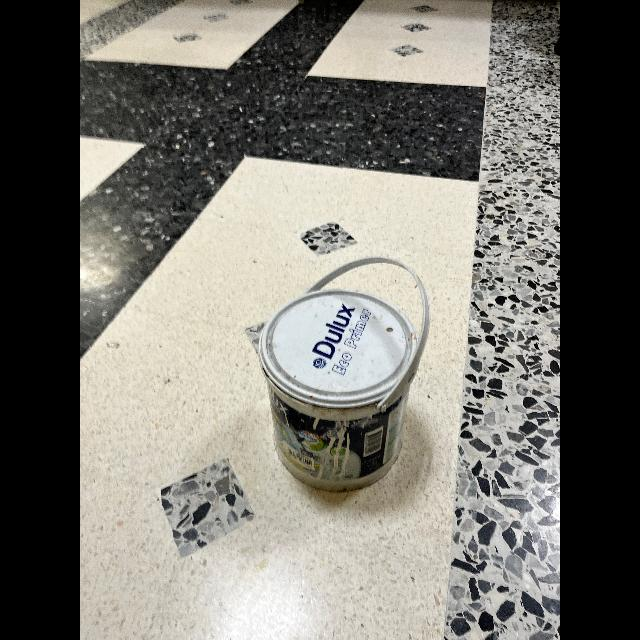paint_bucket: (258, 282, 414, 500)
